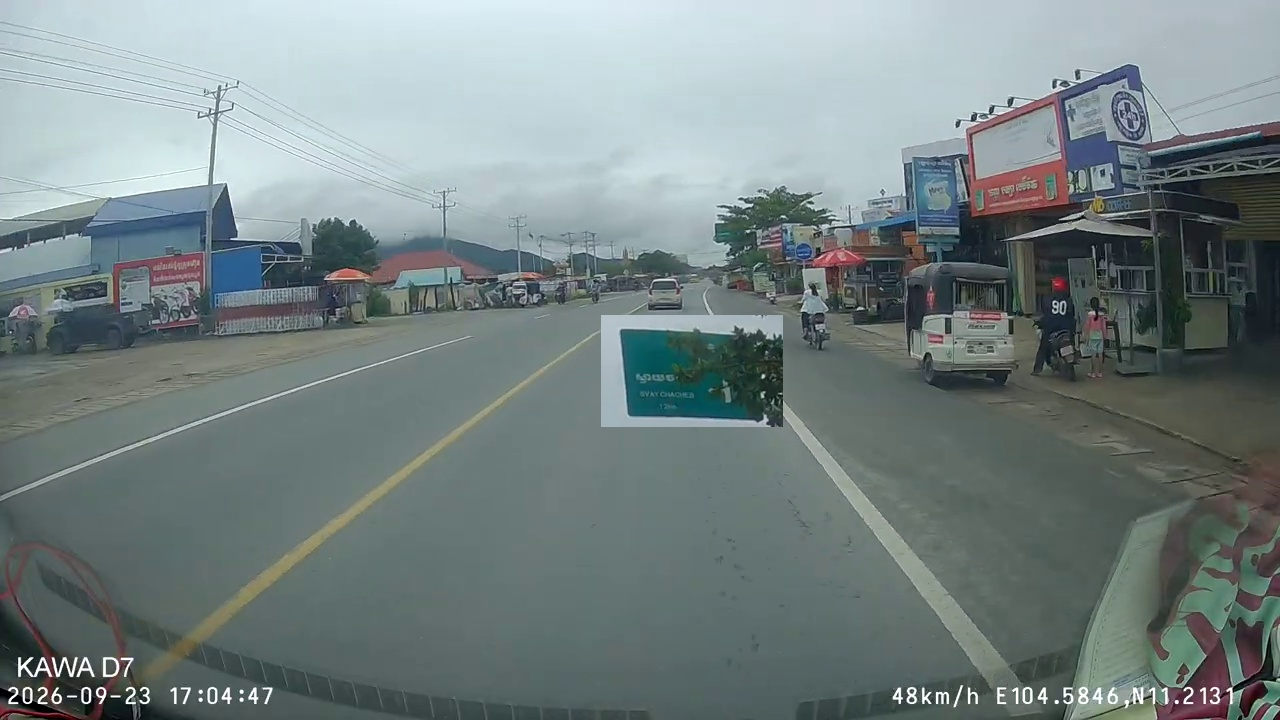direction_sign: (601, 315, 783, 427)
